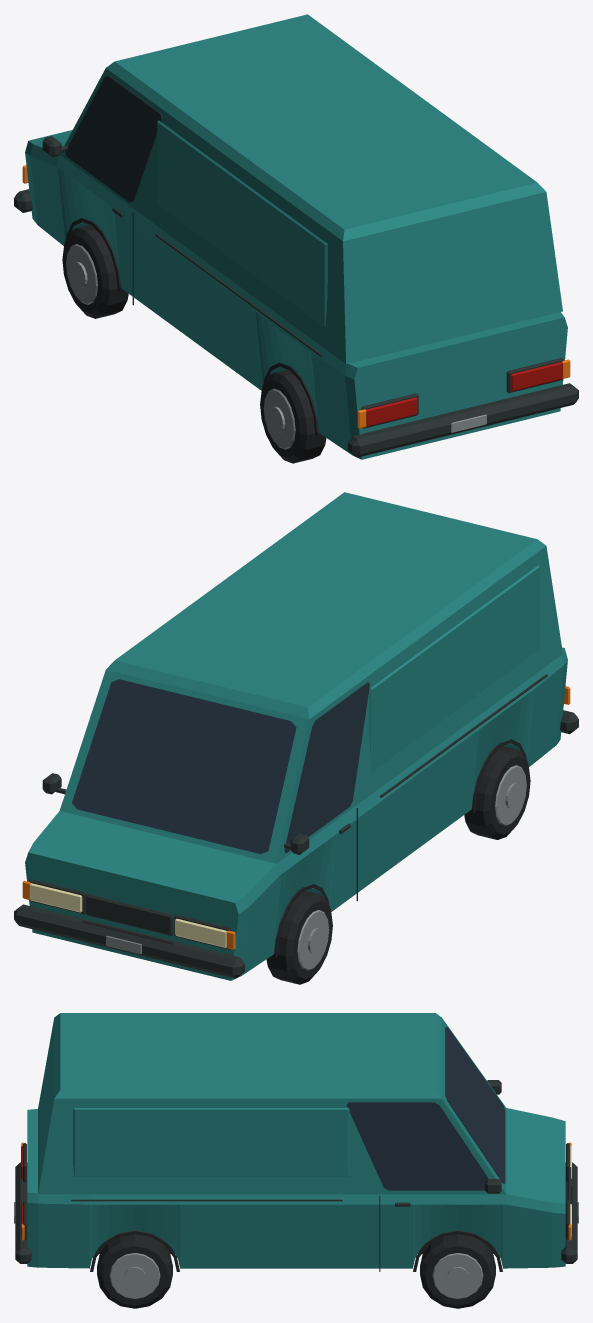
File: 08_PanelVan.fbx
3 renders of one model, top to bottom at view 1: azimuth 30°, elevation 25°; view 2: azimuth 150°, elevation 25°; view 3: azimuth 270°, elevation 25°, orthographic. The views are drawn at different scales.
Visible parts, largest first — view 1: Raked cabin with chamfered roof.007, Continuous body with open wheel arches.008, Recessed solid cargo panel, Side glass -1 pane 1.006, Moulded bumper.015, WheelFL_ShapedSidewall.007, WheelRL_ShapedSidewall.007, WheelFL_Rim.007, WheelRL_Rim.007, Tail lamp.015, Tail lamp.014, Cargo door track; view 2: Raked cabin with chamfered roof.007, Continuous body with open wheel arches.008, Framed opaque windshield.007, Recessed solid cargo panel, Side glass -1 pane 1.006, Moulded bumper.014, WheelRL_ShapedSidewall.007, WheelFL_ShapedSidewall.007, Inset radiator grille.007, WheelRL_Rim.007, WheelFL_Rim.007, Headlamp.013 (+2 smaller); view 3: Raked cabin with chamfered roof.007, Continuous body with open wheel arches.008, Recessed solid cargo panel.001, Side glass 1 pane 1.006, Framed opaque windshield.007, WheelFR_ShapedSidewall.007, WheelRR_ShapedSidewall.007, WheelFR_Rim.007, WheelRR_Rim.007, Moulded bumper.015, Moulded bumper.014, Cargo door track.001 (+2 smaller).
Boxes of the visible parts, x1,y1,x2,y2 form: Raked cabin with chamfered roof.007: (60,14,562,364); Continuous body with open wheel arches.008: (25,130,567,459); Recessed solid cargo panel: (157,120,327,326); Side glass -1 pane 1.006: (65,76,162,202); Moulded bumper.015: (348,383,578,457); WheelFL_ShapedSidewall.007: (62,223,128,318); WheelRL_ShapedSidewall.007: (260,368,326,463); WheelFL_Rim.007: (66,244,97,304); WheelRL_Rim.007: (263,388,295,449); Tail lamp.015: (510,362,562,391); Tail lamp.014: (366,397,417,426); Cargo door track: (155,233,322,356); Raked cabin with chamfered roof.007: (59,492,562,863); Continuous body with open wheel arches.008: (25,647,567,980); Framed opaque windshield.007: (72,679,296,853); Recessed solid cargo panel: (369,565,539,771); Side glass -1 pane 1.006: (284,682,369,853); Moulded bumper.014: (14,904,244,978); WheelRL_ShapedSidewall.007: (464,744,530,839); WheelFL_ShapedSidewall.007: (266,889,332,984); Inset radiator grille.007: (86,894,173,935); WheelRL_Rim.007: (495,765,526,825); WheelFL_Rim.007: (297,910,329,970); Headlamp.013: (30,883,82,912); Raked cabin with chamfered roof.007: (38,1013,506,1194); Continuous body with open wheel arches.008: (27,1108,565,1268); Recessed solid cargo panel.001: (73,1108,349,1176); Side glass 1 pane 1.006: (346,1102,488,1190); Framed opaque windshield.007: (445,1027,505,1183); WheelFR_ShapedSidewall.007: (420,1234,495,1308); WheelRR_ShapedSidewall.007: (97,1234,172,1308); WheelFR_Rim.007: (432,1253,483,1298); WheelRR_Rim.007: (109,1253,160,1298); Moulded bumper.015: (15,1162,31,1263); Moulded bumper.014: (561,1162,577,1263); Cargo door track.001: (71,1199,342,1201).
Size of the model in its own units: 226 by 216 by 520.
